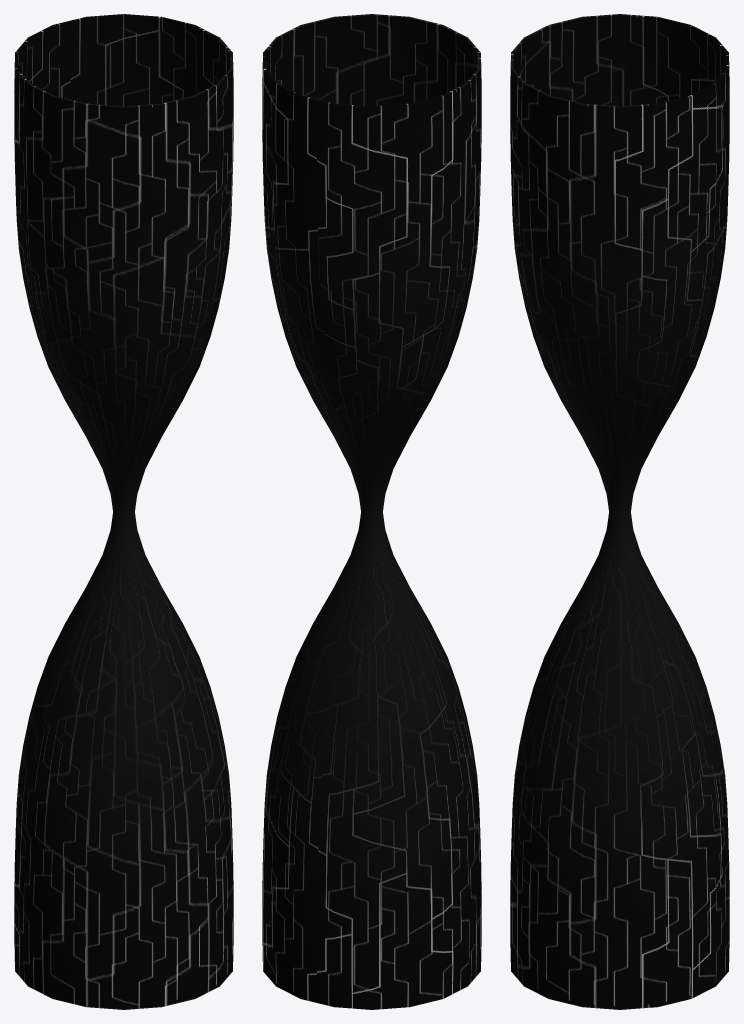
Rendered from sandglass.FBX.
The picture shows the model from 3 angles, left to right: view 1: azimuth 30°, elevation 25°; view 2: azimuth 150°, elevation 25°; view 3: azimuth 270°, elevation 25°; orthographic projection.
Visible parts, largest first — view 1: Cylinder01; view 2: Cylinder01; view 3: Cylinder01.
Boxes of the visible parts, <box> form: Cylinder01: <box>14,14,233,1009</box>; Cylinder01: <box>262,14,481,1009</box>; Cylinder01: <box>510,14,729,1009</box>.
Bounding box in the file's own units: 16.11 × 72 × 15.87.
Materials: 2 (2 with a texture image).
